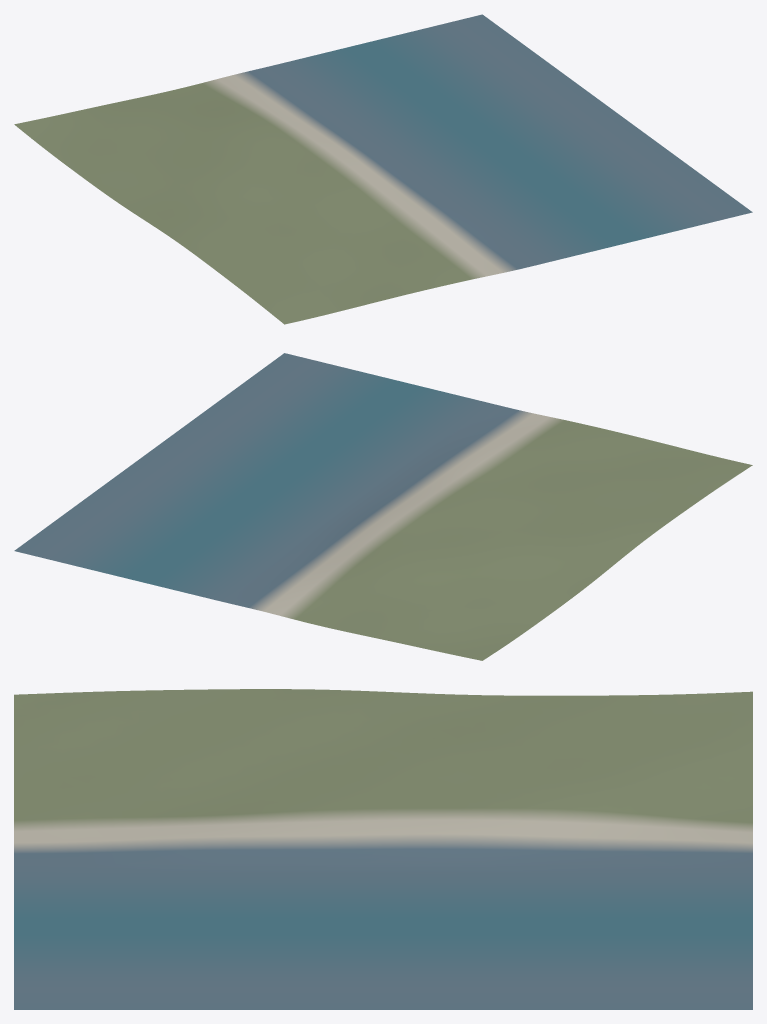
The picture shows the model from 3 angles, top to bottom: view 1: azimuth 30°, elevation 25°; view 2: azimuth 150°, elevation 25°; view 3: azimuth 270°, elevation 25°; orthographic projection. The views are drawn at different scales.
Bounding box in the file's own units: 300 × 6.86 × 300.
